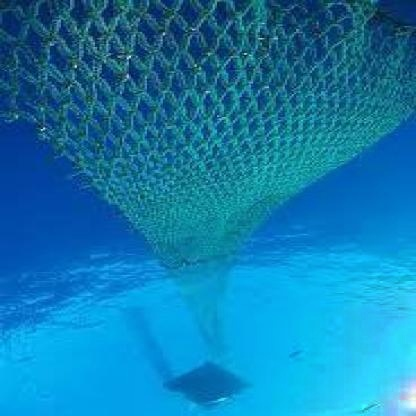net: (30, 2, 401, 267)
